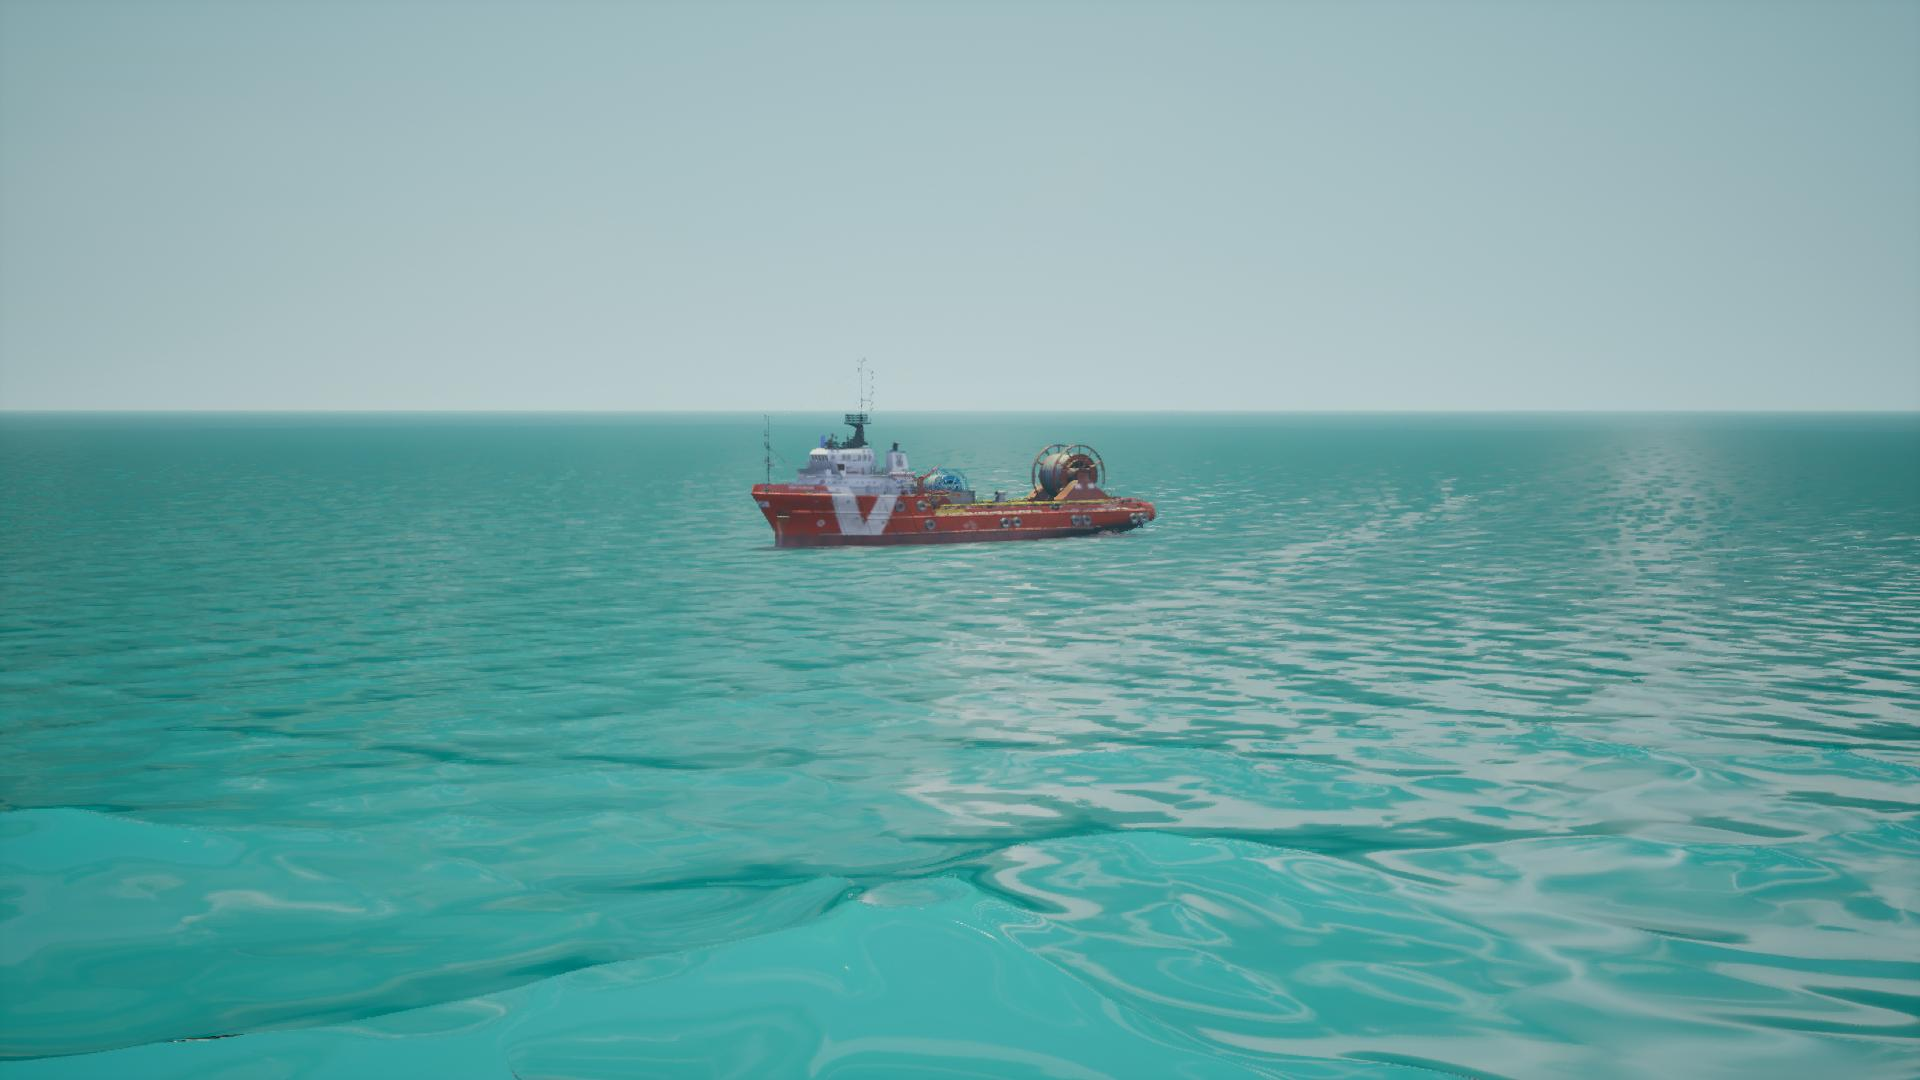Tug Boat: (750, 357, 1151, 553)
